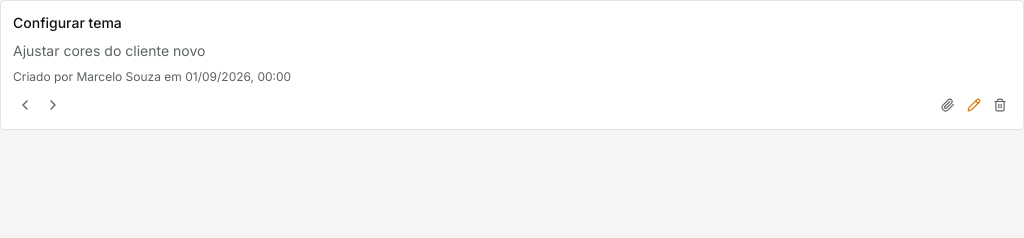
Test: TaskCardItem › abre e fecha a seção de anexos pelo ícone de clipe, sem entrar em edição
Expected: the text "Anexos" is not shown
Click the button named "Anexos de Configurar tema" at {"x": 948, "y": 105}, box [937, 94, 959, 116]
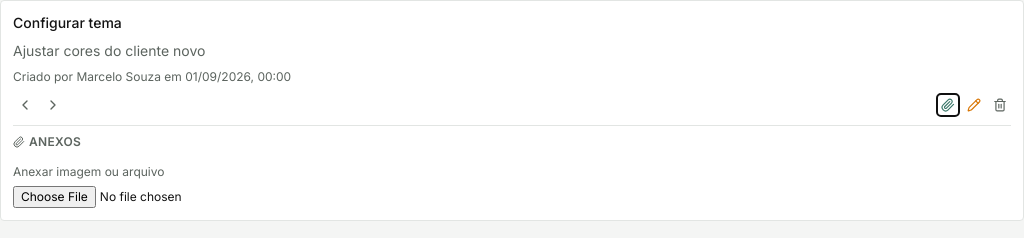
Expected: the text "Anexos" is shown, [13, 134, 81, 149]
Click the button named "Anexos de Configurar tema" at {"x": 948, "y": 105}, box [937, 94, 959, 116]
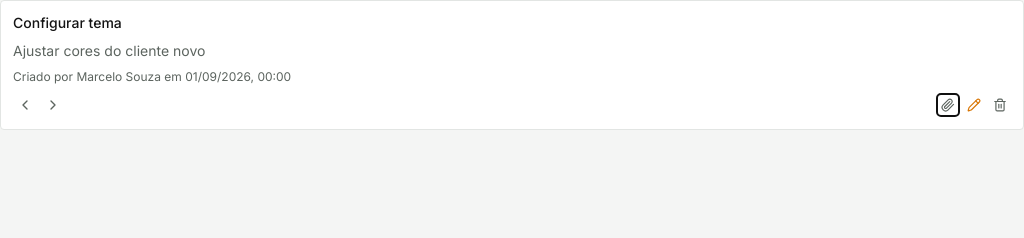
Expected: the text "Anexos" is gone
